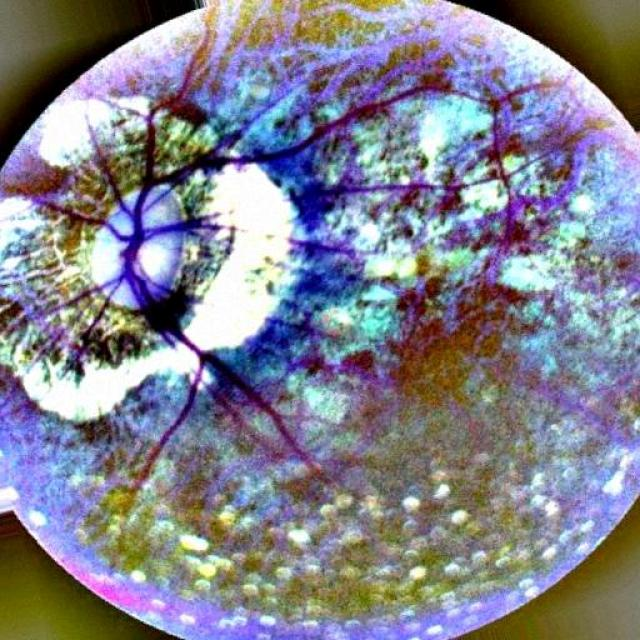Macula: (405, 283, 514, 367)
Nerves: (110, 116, 305, 283), (135, 276, 304, 458), (97, 144, 132, 216)
Optic Disk: (135, 186, 182, 284), (92, 230, 122, 278), (115, 281, 134, 305), (111, 214, 132, 234)
